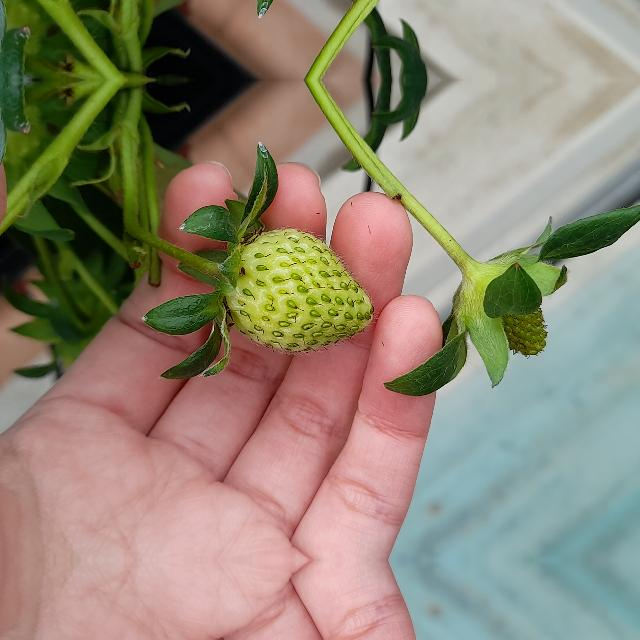Health_25: (225, 228, 373, 352), (454, 263, 550, 365)
